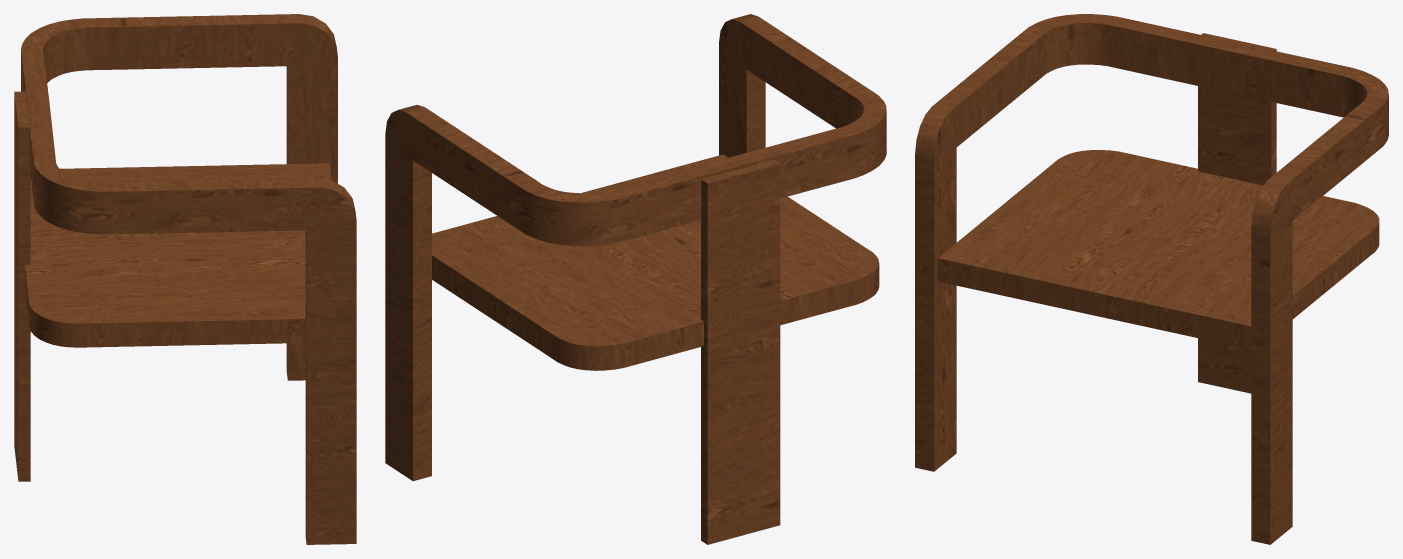
File: sittingChair.fbx
3 renders of one model, left to right at view 1: azimuth 30°, elevation 25°; view 2: azimuth 150°, elevation 25°; view 3: azimuth 270°, elevation 25°, orthographic. The views are drawn at different scales.
Visible parts, largest first — view 1: defaultMaterial.022; view 2: defaultMaterial.022; view 3: defaultMaterial.022.
Boxes of the visible parts, left/top/right/bottom form: defaultMaterial.022: left=14, top=14, right=356, bottom=544; defaultMaterial.022: left=385, top=14, right=886, bottom=544; defaultMaterial.022: left=915, top=14, right=1388, bottom=544.
Size of the model in its own units: 100 by 87.93 by 109.
1 material, 1 textured.
